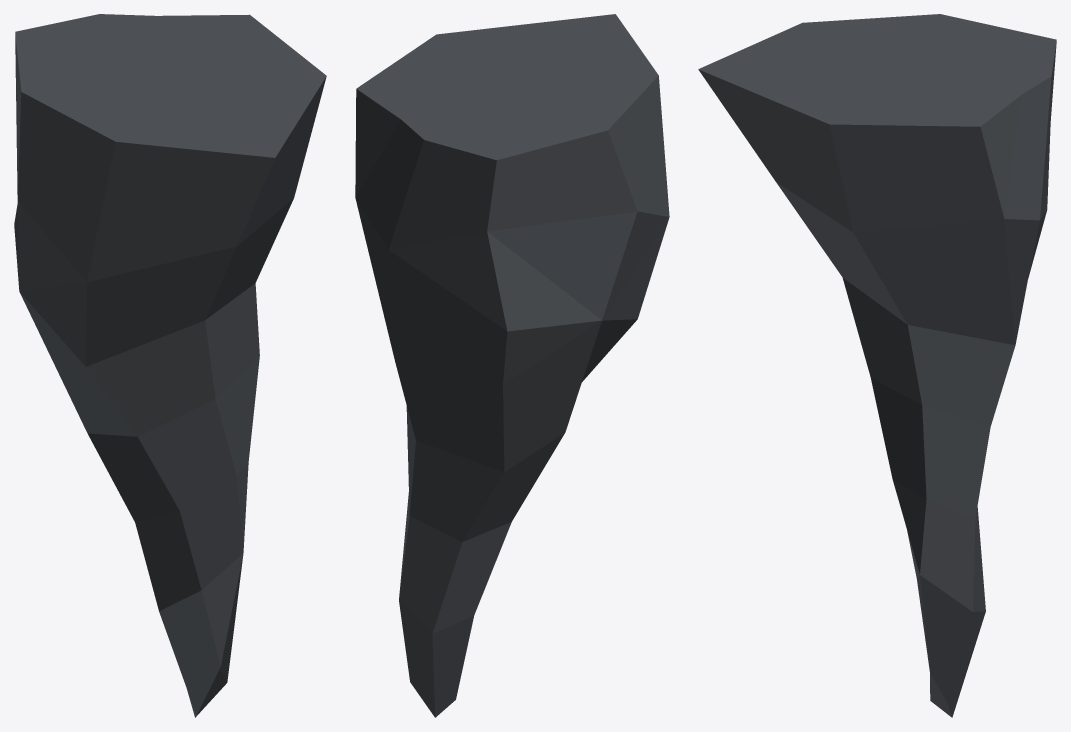
The model's file is Stalagtite_Small.fbx.
The picture shows the model from 3 angles, left to right: view 1: azimuth 30°, elevation 25°; view 2: azimuth 150°, elevation 25°; view 3: azimuth 270°, elevation 25°; orthographic projection. The views are drawn at different scales.
Visible parts, largest first — view 1: Stalagtite_Small; view 2: Stalagtite_Small; view 3: Stalagtite_Small.
Part boxes in pixels (x1,y1,x2,y2): Stalagtite_Small: (14,14,326,717); Stalagtite_Small: (355,14,669,717); Stalagtite_Small: (698,14,1056,717).
Bounding box in the file's own units: 56.69 × 136 × 71.09.
